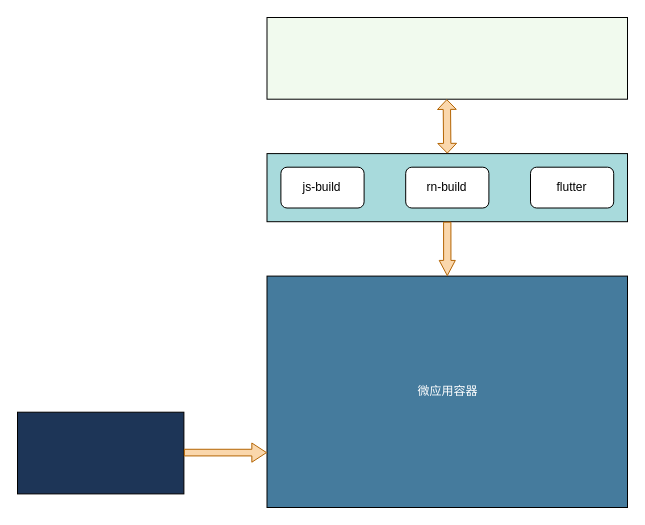
The diagram is 645 pixels wide and 525 high, and some of its shapes have lost their labels. The shapes that lost their labels are listed below. From the top down, each one's centre as x and y in pixels, then its label:
pixel 447 57: 微应用开发者平台
pixel 100 452: 插件市场
